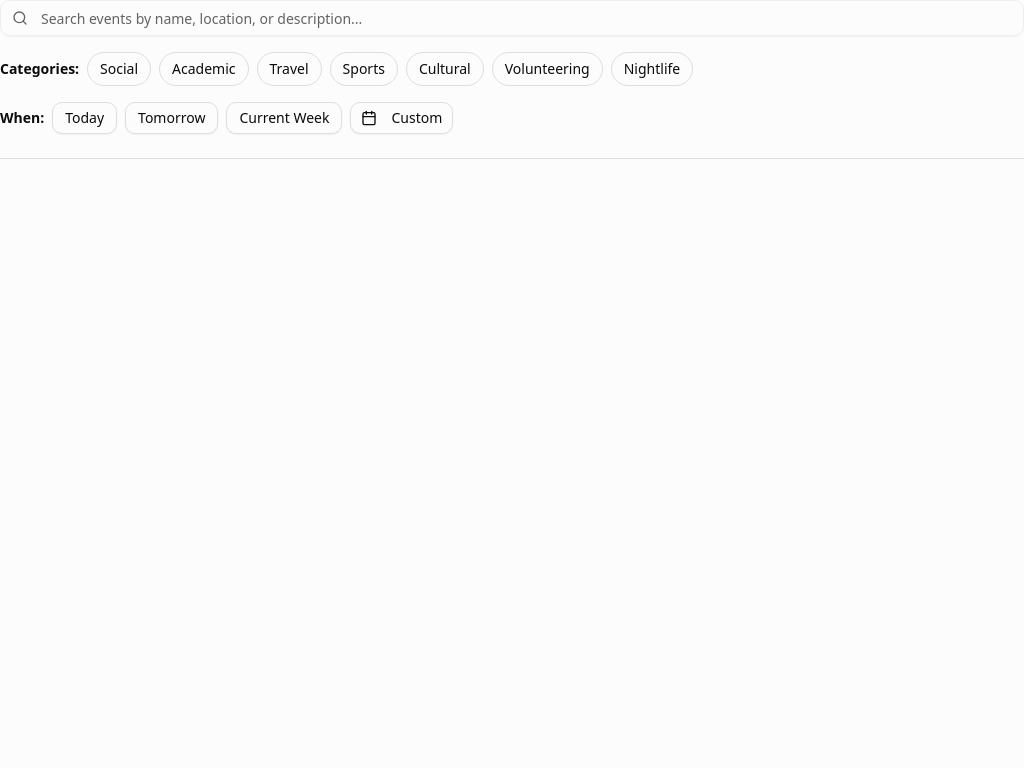
Test: EventFilters › Custom Date Range › should open calendar when custom range button clicked
Click the button "Custom" at (402, 118), box 350,102 -> 453,134
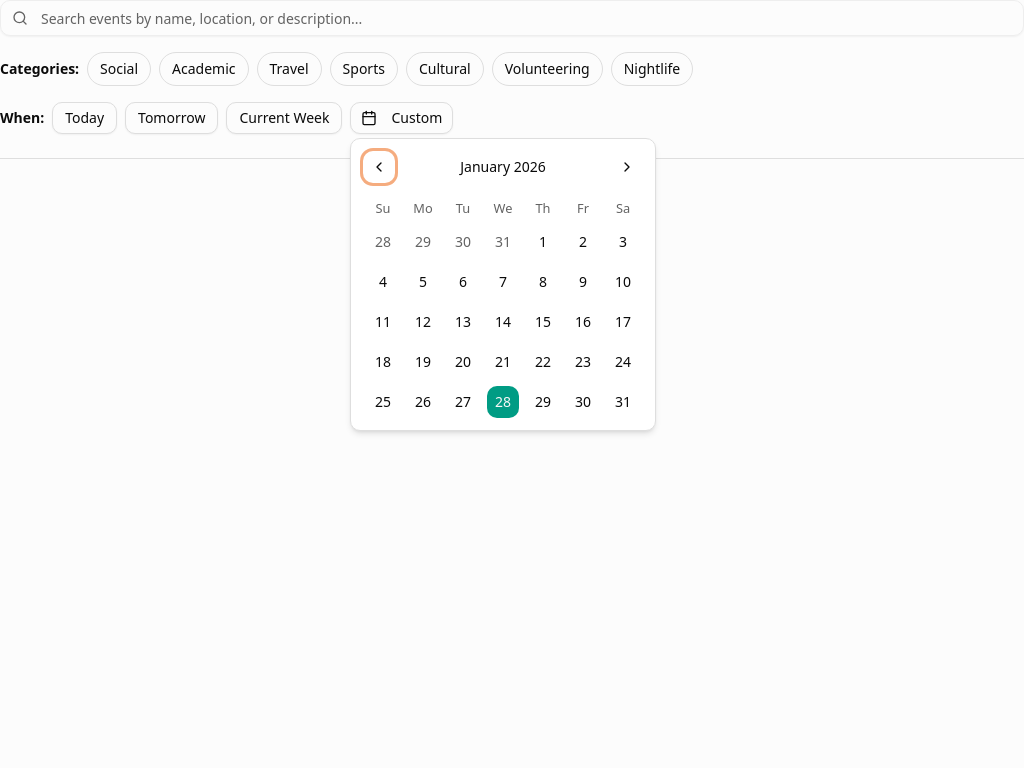
Expected: the table is shown, 363,199 -> 643,418
